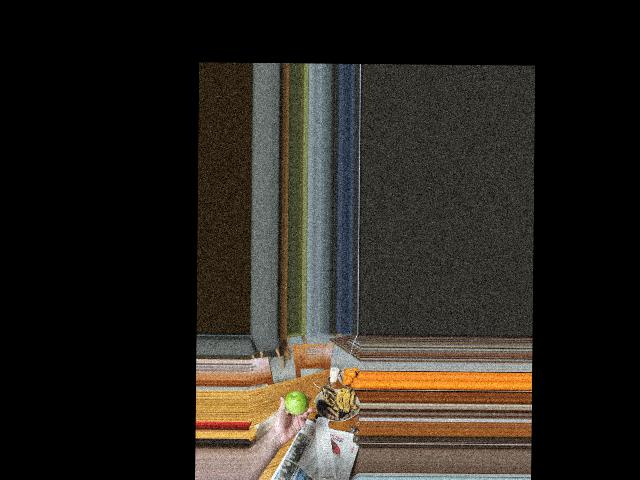apple: (284, 391, 308, 416)
